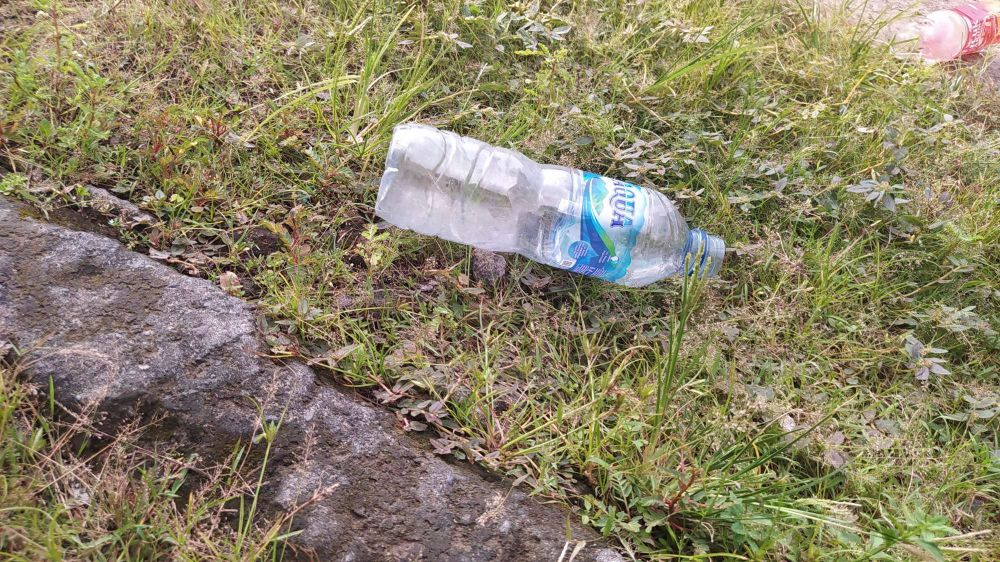botol: (355, 108, 736, 298)
